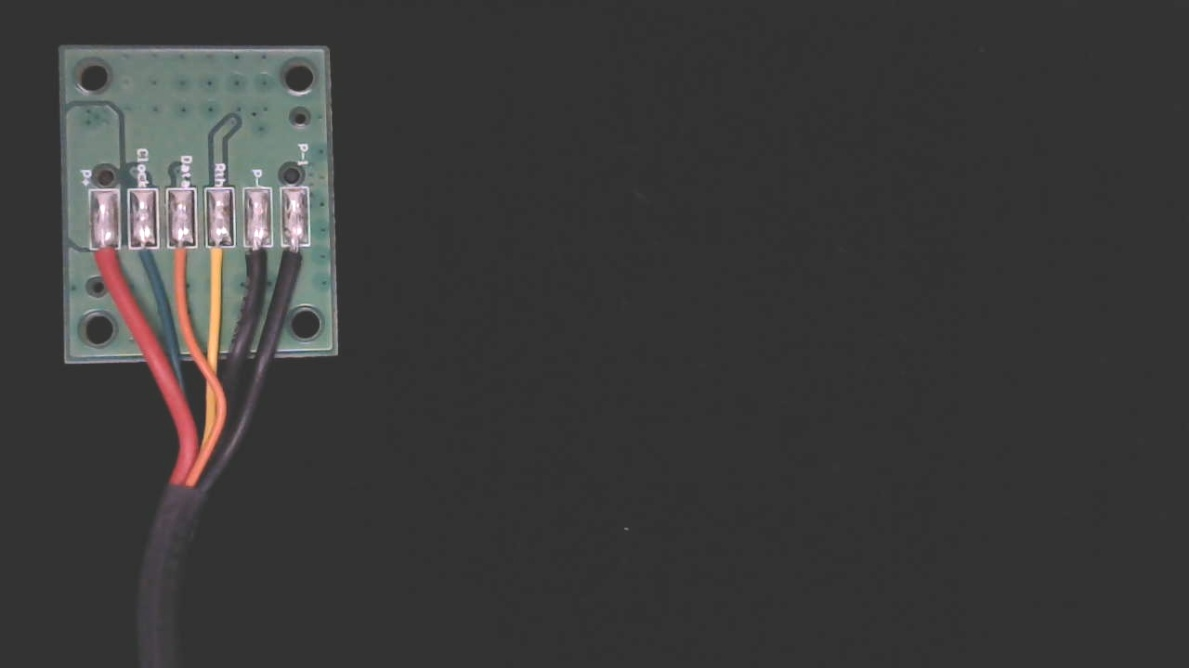Black: (241, 230, 272, 298)
Black1: (281, 229, 312, 291)
Green: (126, 230, 159, 295)
Orange: (167, 231, 198, 298)
Red: (88, 237, 121, 302)
Yellow: (203, 228, 236, 297)
